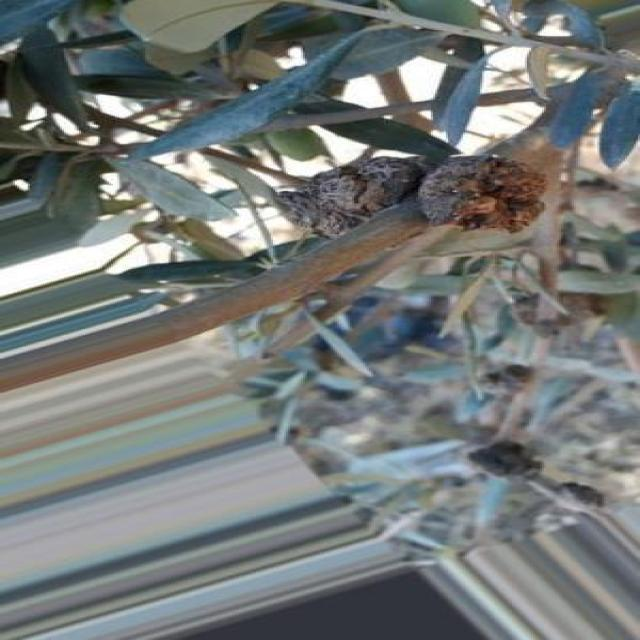Tuberculosis: (277, 157, 429, 237), (418, 157, 546, 232)
